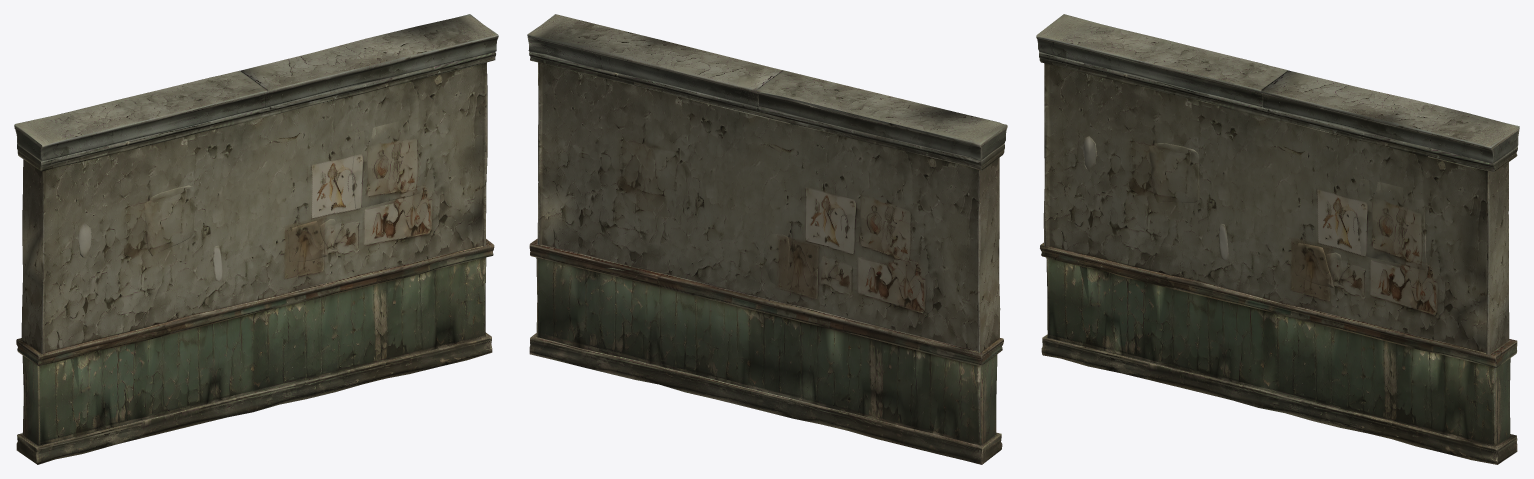
The model's file is wall4.fbx.
The picture shows the model from 3 angles, left to right: view 1: azimuth 30°, elevation 25°; view 2: azimuth 150°, elevation 25°; view 3: azimuth 330°, elevation 25°; orthographic projection.
Parts seen in each view (by area): view 1: wall4; view 2: wall4; view 3: wall4.
Part boxes in pixels (x1=…): wall4: x1=14, y1=14, x2=498, y2=464; wall4: x1=527, y1=14, x2=1007, y2=464; wall4: x1=1036, y1=14, x2=1519, y2=464.
Bounding box in the file's own units: 723 × 492 × 79.39.
Materials: 1 (1 with a texture image).
